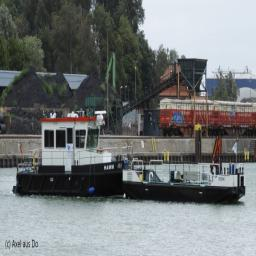tugboat: (12, 100, 251, 210)
